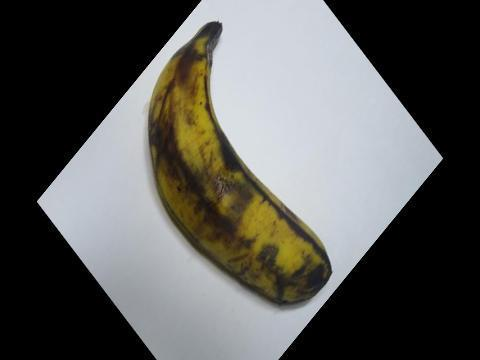overripe: (135, 10, 344, 320)
rotten: (185, 144, 270, 223)
